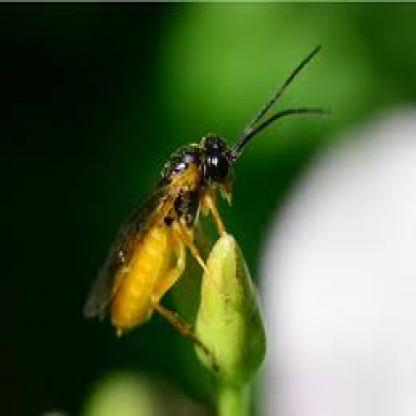sawfly: (78, 36, 331, 374)
